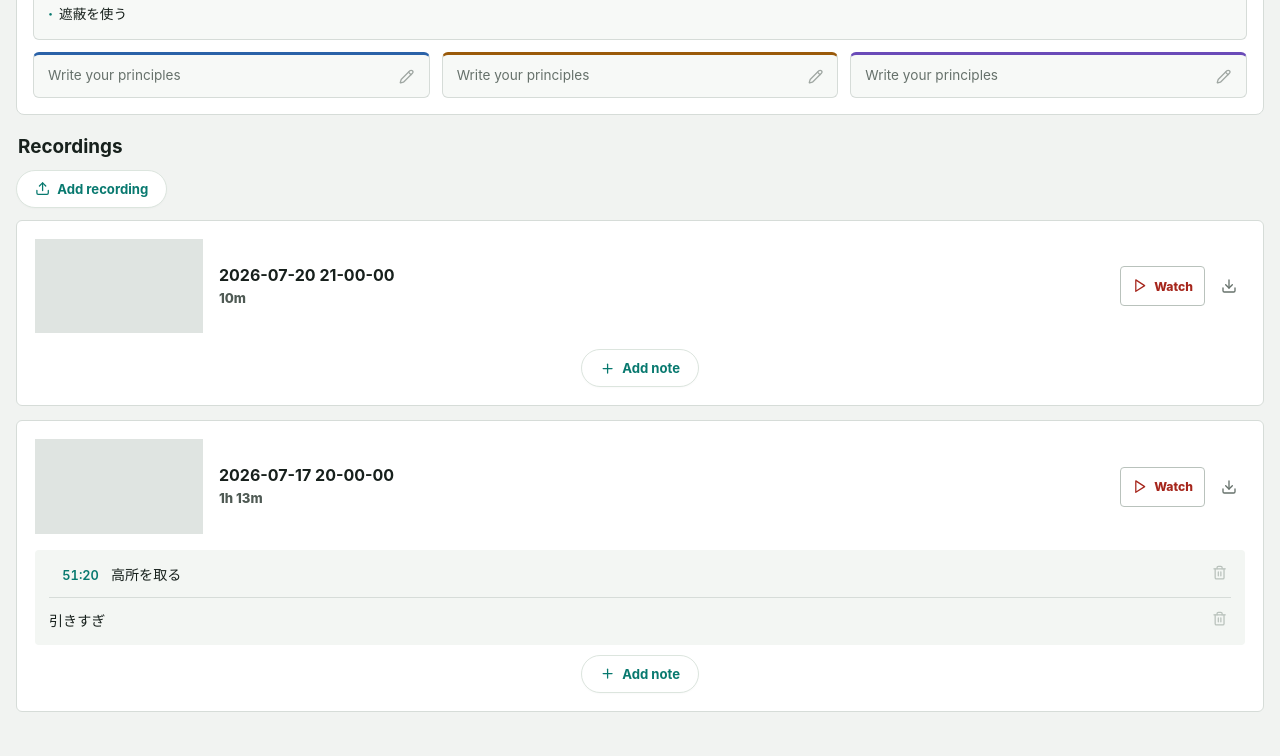
Test: home › adds an untimed entry, edits one and deletes one
The image size is (1280, 756).
(page scrolled)
Click the button "Add note" below "2026-07-17 20-00-00": (640, 674) [581,655,699,693]
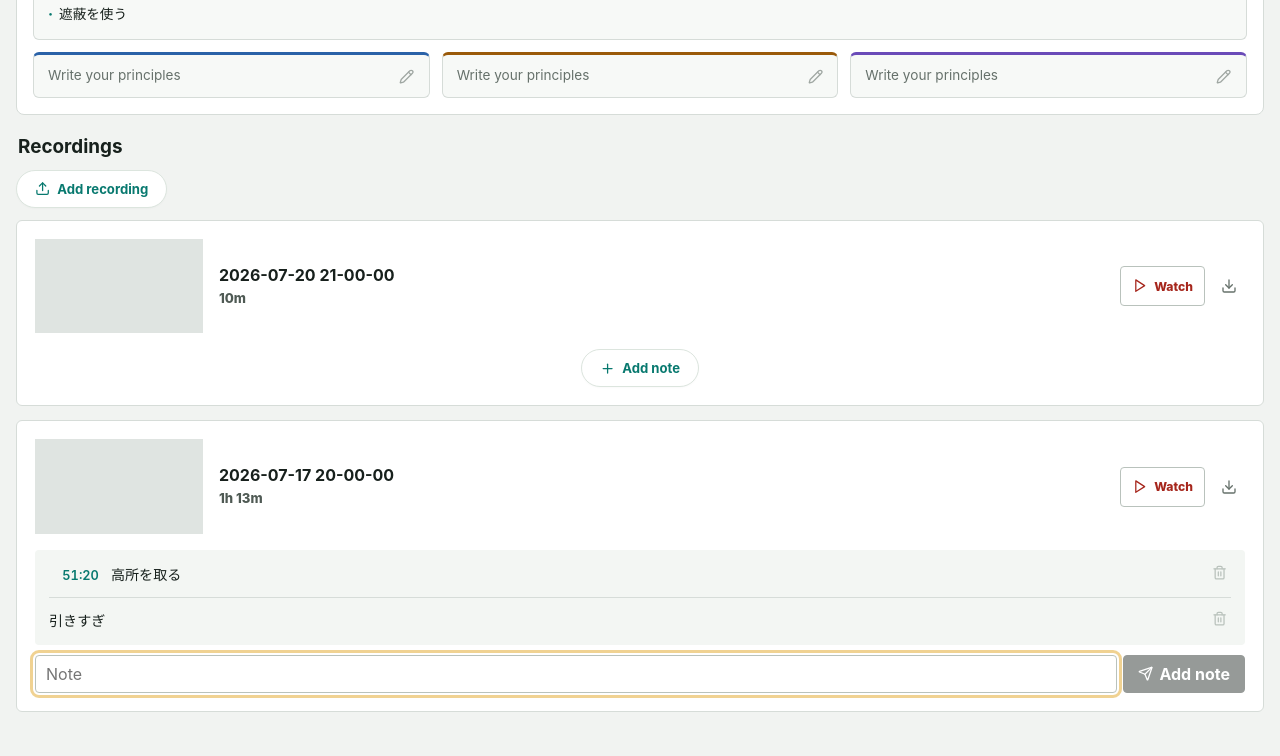
In the field named "Add note for 2026-07-17 20-00-00": (576, 674) [35,655,1117,693], type "退く判断"
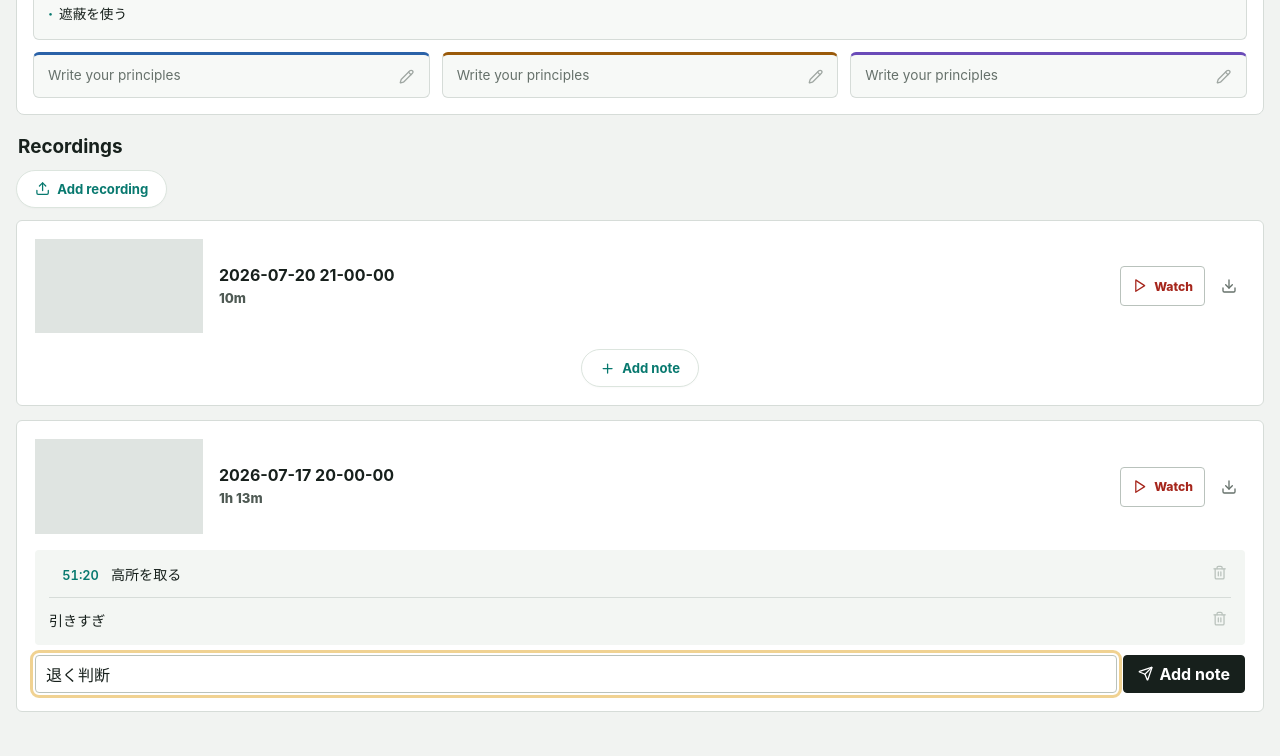
Click the 2nd button "Add note": (1184, 674) [1123,655,1245,693]
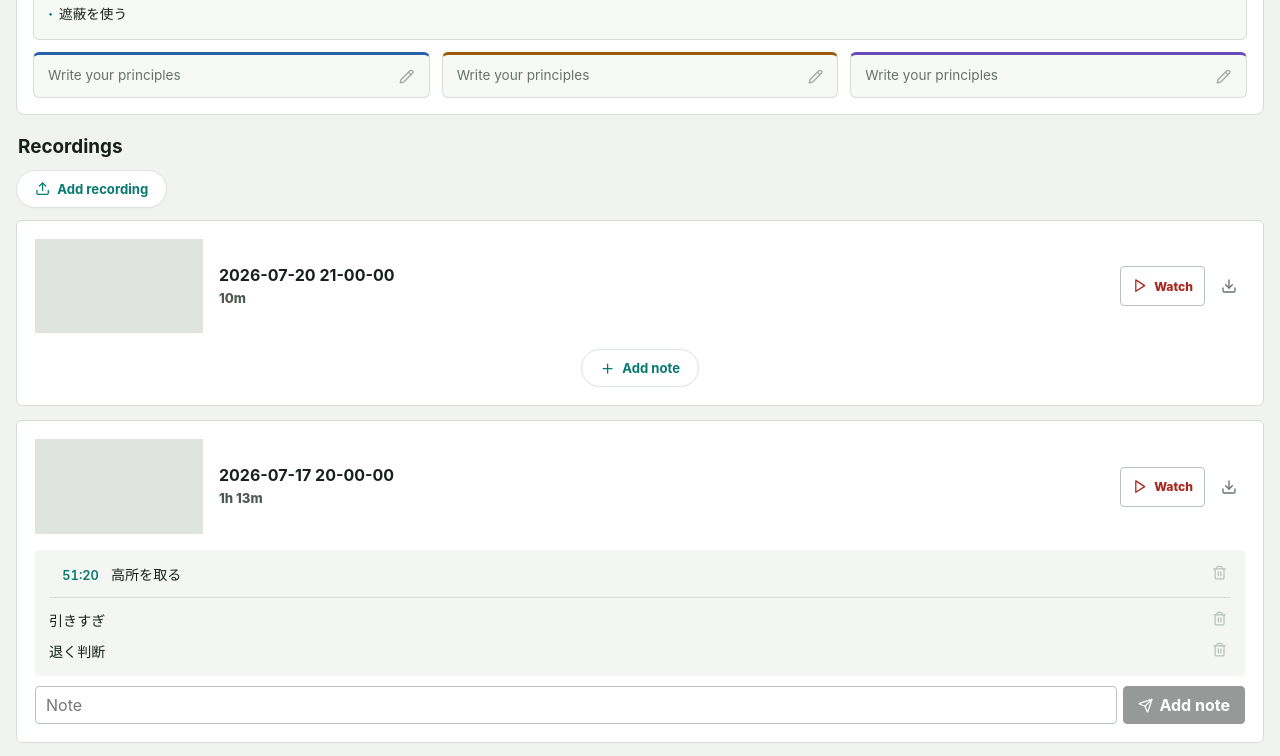
Expected: the button "退く判断" is shown, [49,643,105,660]
Click the button "引きすぎ": (77, 620) [49,612,105,629]
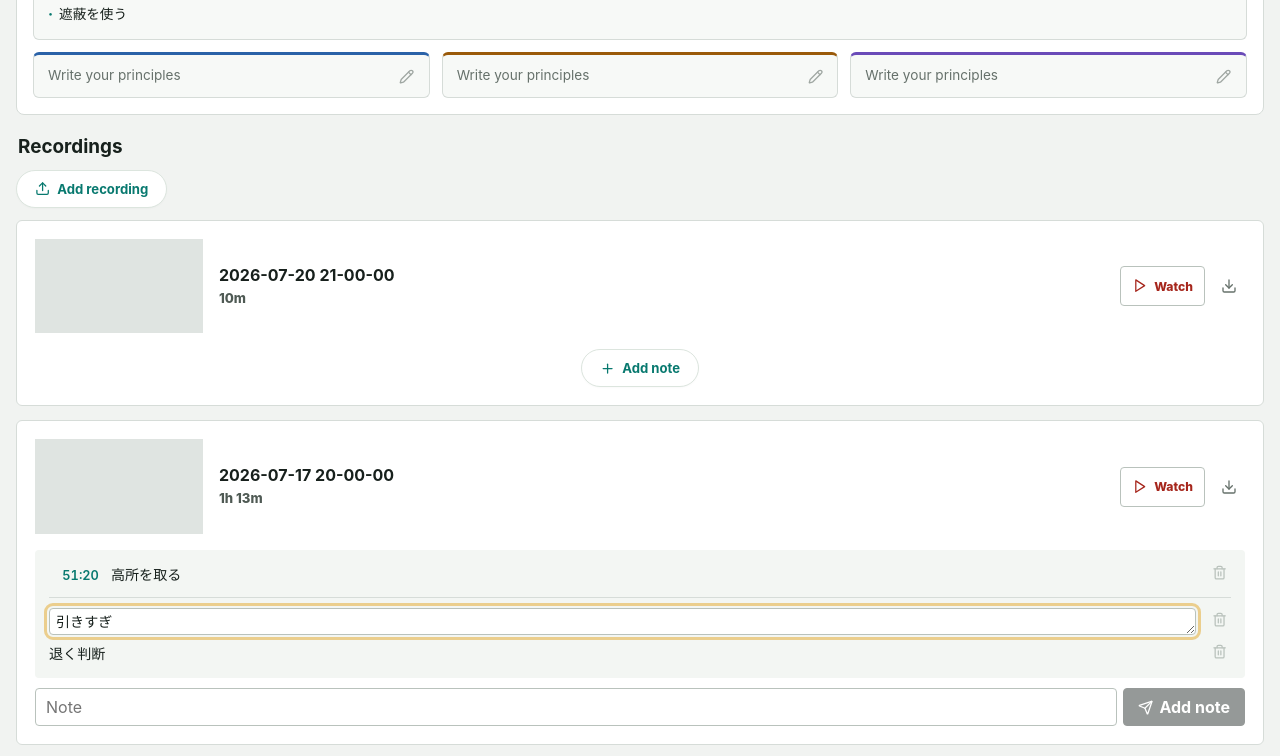
Replace the text in the text box named "Edit note" with "引きすぎない": (622, 621) [49,608,1196,635]
Then press Enter
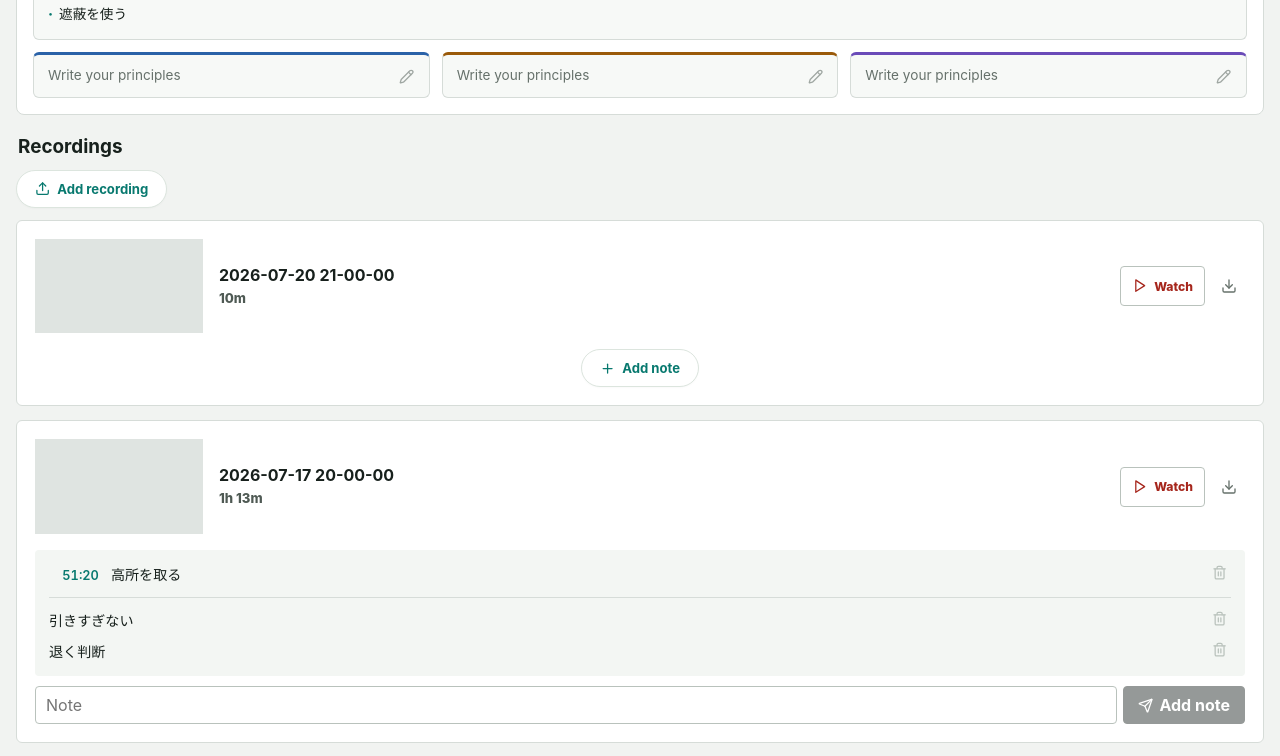
Expected: the button "引きすぎない" is shown, [49,612,134,629]
Click the button named "Delete" in the row of "51:20": (1219, 574) [1208,562,1231,587]
(page scrolled)
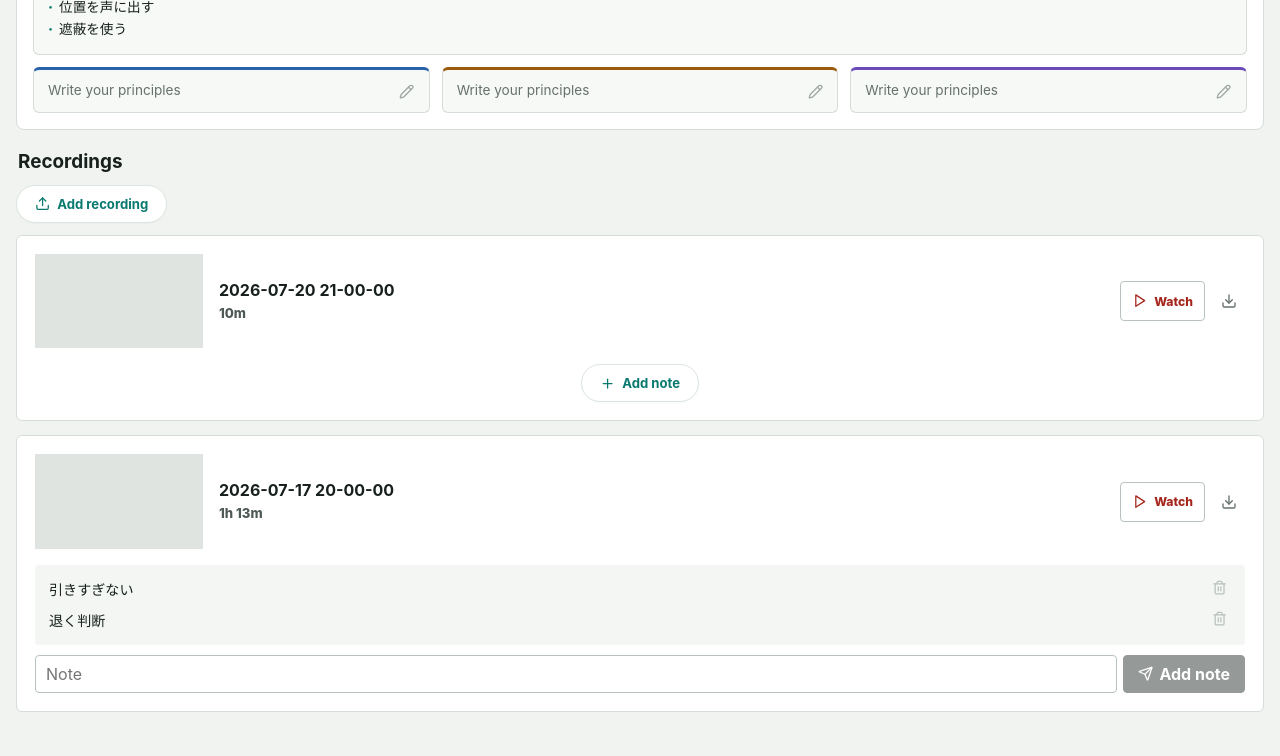
Expected: the button "高所を取る" is gone
